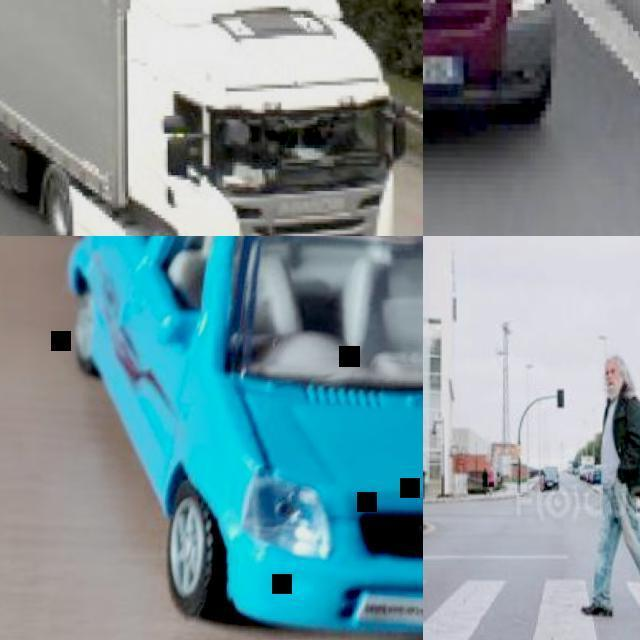car: (116, 226, 637, 639), (124, 0, 411, 232), (423, 1, 557, 133)
